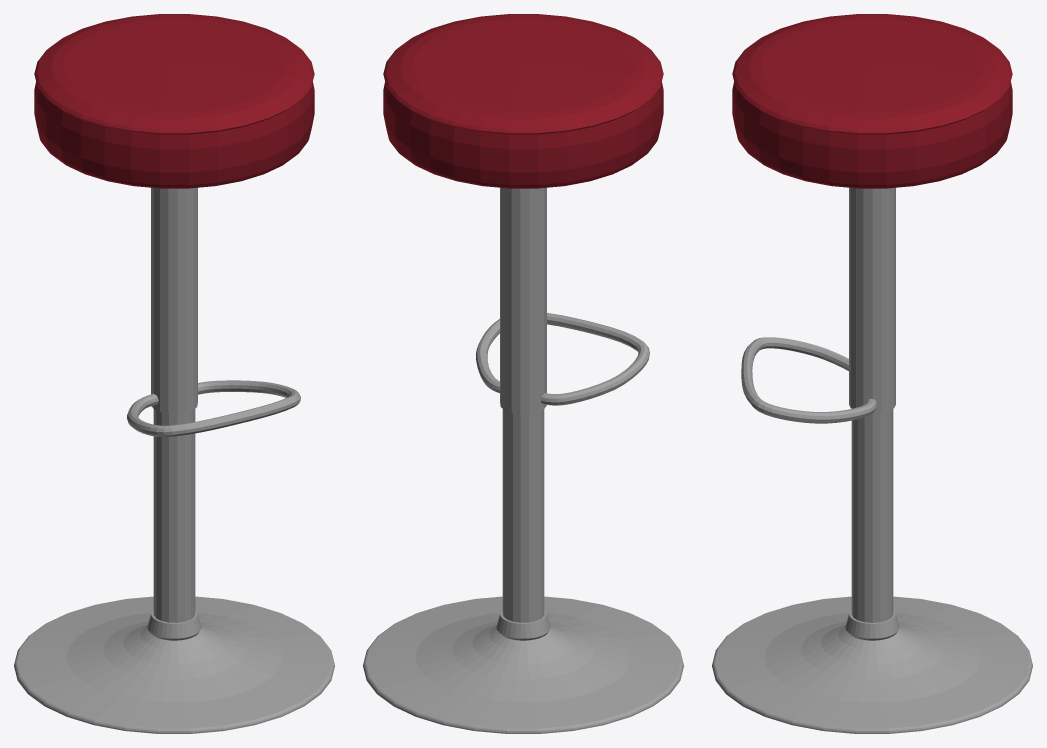
File: stul-meditsinskiy-vintovoy.glb
The picture shows the model from 3 angles, left to right: view 1: azimuth 30°, elevation 25°; view 2: azimuth 150°, elevation 25°; view 3: azimuth 270°, elevation 25°; orthographic projection.
Visible parts, largest first — view 1: Node; view 2: Node; view 3: Node.
Part boxes in pixels (box(x1,y1,x2,y2)): Node: box(14, 14, 334, 733); Node: box(363, 14, 683, 733); Node: box(712, 14, 1032, 733).
Size of the model in its own units: 13.92 by 29 by 14.
